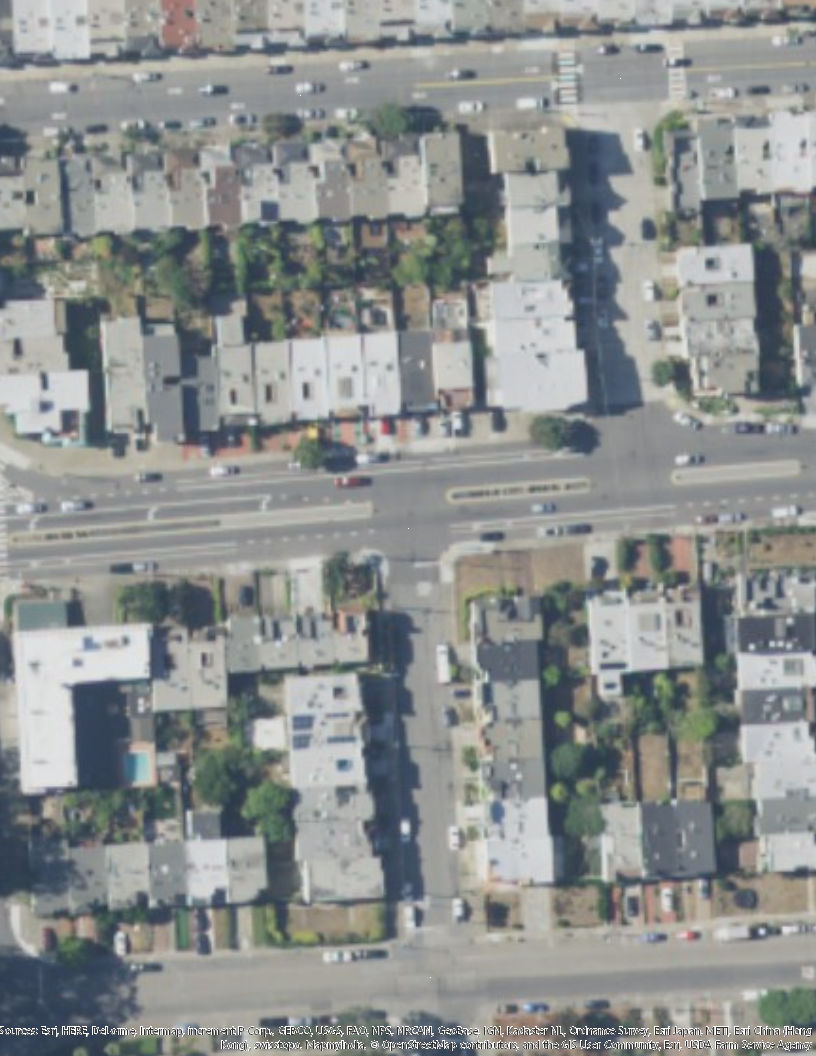zebracross: (551, 44, 582, 109), (669, 38, 687, 98)
